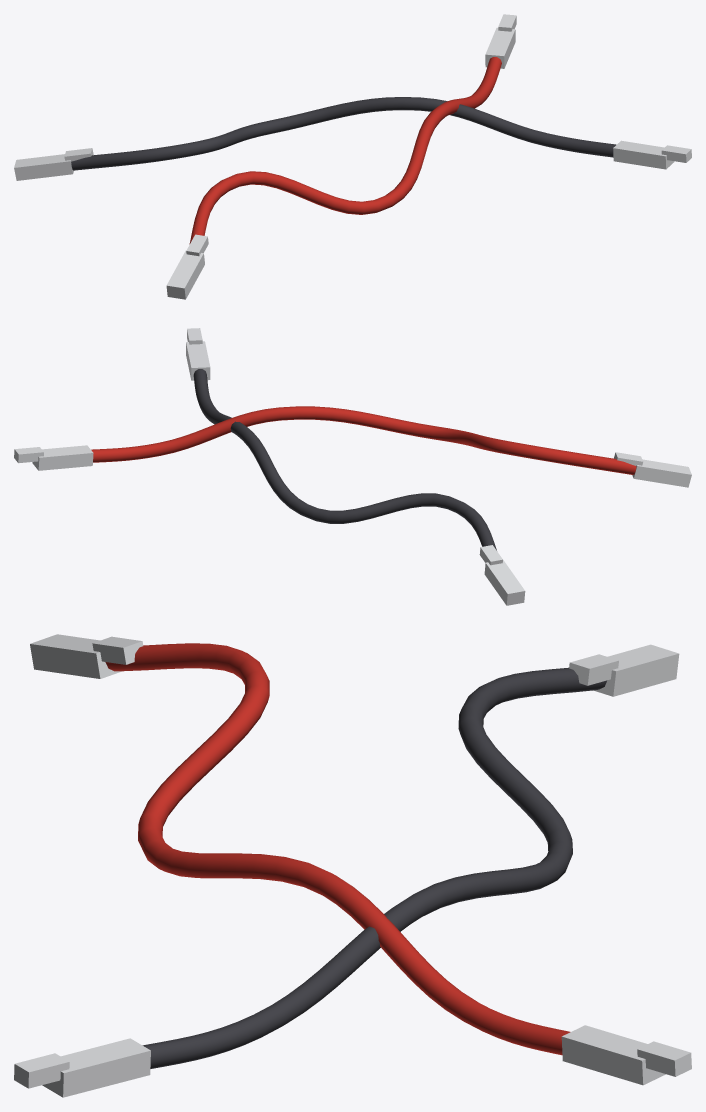
Rendered from jumper_cables.glb.
3 renders of one model, top to bottom at view 1: azimuth 30°, elevation 25°; view 2: azimuth 150°, elevation 25°; view 3: azimuth 270°, elevation 25°, orthographic. The views are drawn at different scales.
Parts seen in each view (by area): view 1: cable_black, cable_red, clip_b0_body, clip_b1_body, clip_r0_body, clip_r1_body; view 2: cable_red, cable_black, clip_r1_body, clip_r0_body, clip_b0_body, clip_b1_body; view 3: cable_red, cable_black, clip_b1_body, clip_r1_body, clip_b0_body, clip_r0_body, clip_b1_jaw, clip_r1_jaw, clip_b0_jaw, clip_r0_jaw.
Boxes of the visible parts, x1=… form: cable_black: x1=71, y1=97, x2=616, y2=170; cable_red: x1=189, y1=57, x2=501, y2=244; clip_b0_body: x1=14, y1=154, x2=73, y2=180; clip_b1_body: x1=613, y1=140, x2=674, y2=169; clip_r0_body: x1=166, y1=250, x2=204, y2=299; clip_r1_body: x1=485, y1=27, x2=515, y2=68; cable_red: x1=91, y1=406, x2=636, y2=474; cable_black: x1=193, y1=369, x2=496, y2=550; clip_r1_body: x1=32, y1=445, x2=93, y2=470; clip_r0_body: x1=632, y1=459, x2=691, y2=487; clip_b0_body: x1=484, y1=560, x2=525, y2=605; clip_b1_body: x1=186, y1=341, x2=210, y2=380; cable_red: x1=105, y1=643, x2=570, y2=1055; cable_black: x1=142, y1=667, x2=607, y2=1068; clip_b1_body: x1=42, y1=1038, x2=150, y2=1097; clip_r1_body: x1=561, y1=1025, x2=665, y2=1085; clip_b0_body: x1=593, y1=644, x2=679, y2=696; clip_r0_body: x1=30, y1=634, x2=121, y2=678; clip_b1_jaw: x1=14, y1=1053, x2=69, y2=1088; clip_r1_jaw: x1=637, y1=1041, x2=691, y2=1076; clip_b0_jaw: x1=569, y1=654, x2=618, y2=685; clip_r0_jaw: x1=92, y1=636, x2=143, y2=664.
Size of the model in its own units: 3.1 by 0.3184 by 1.9.
